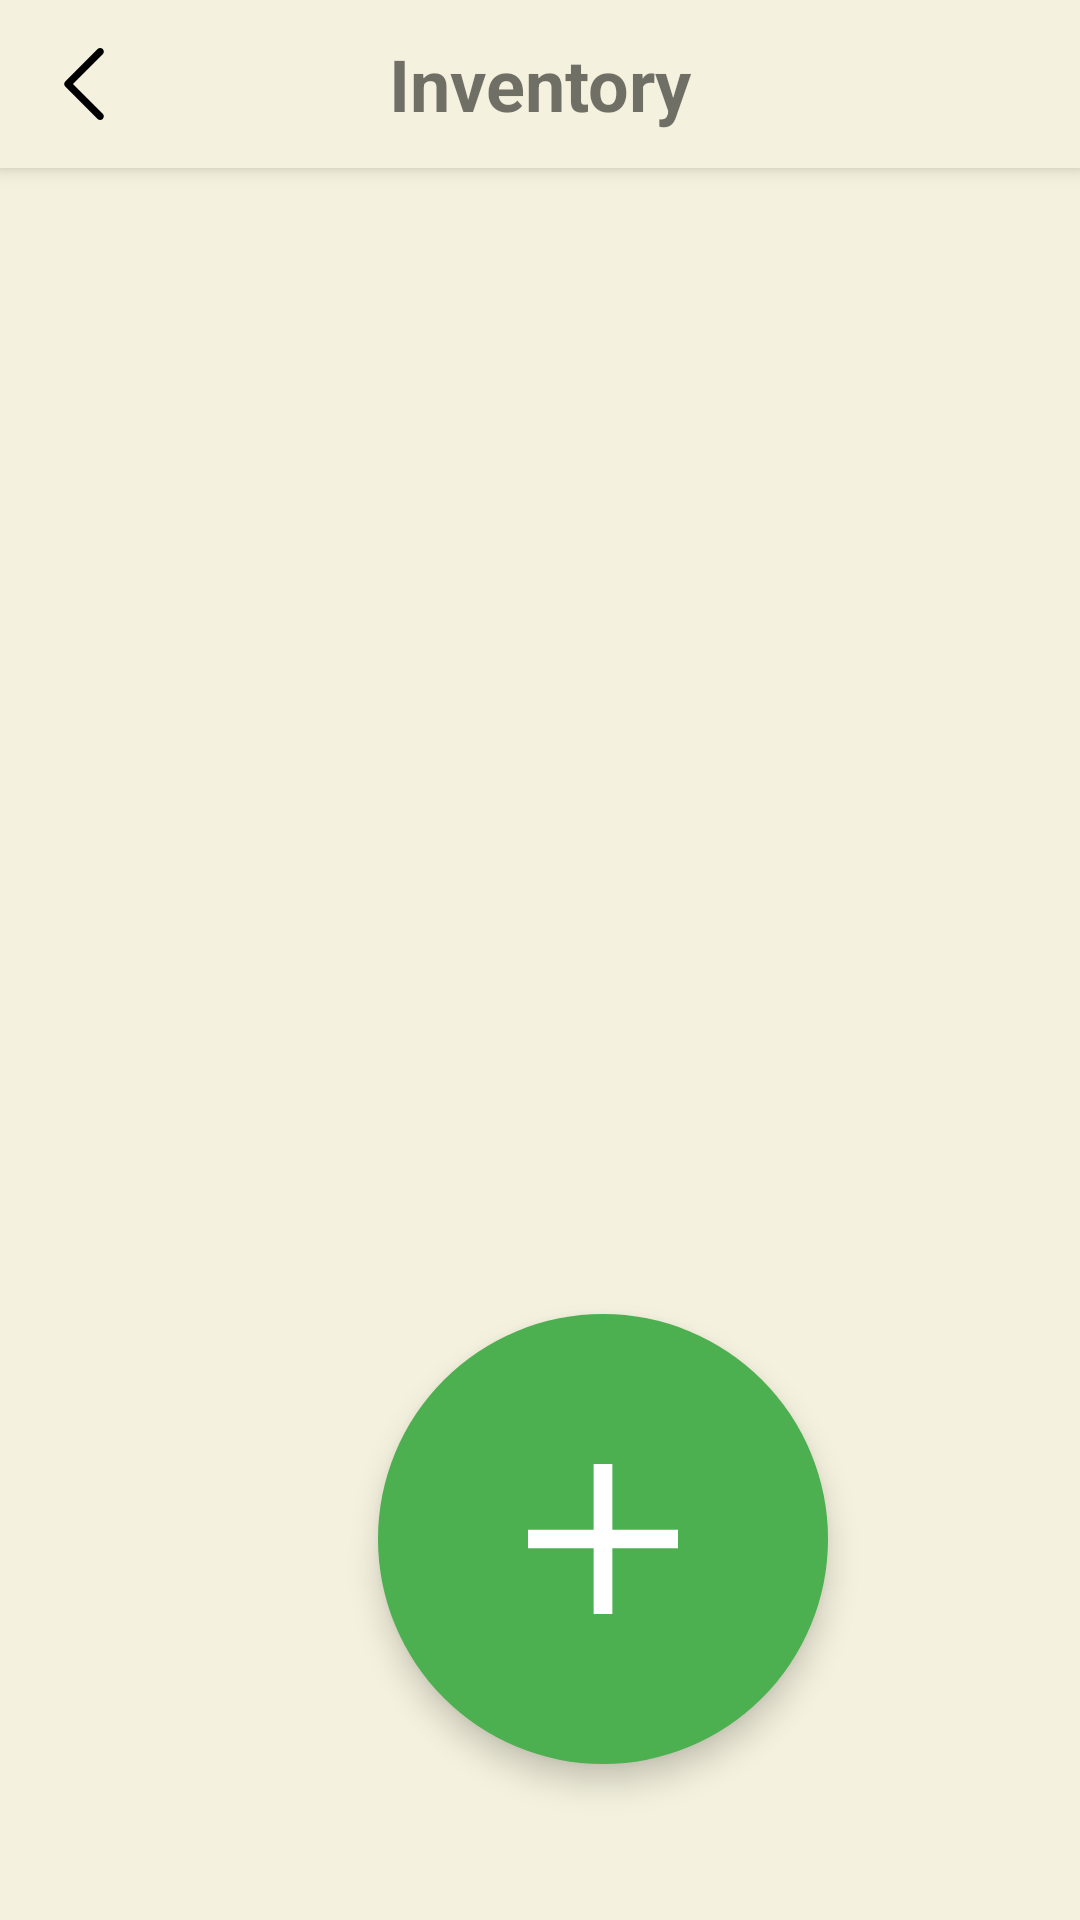

Named icons in this screenshot (1080w x 1920h) and their bounding boxes, bbox=(x1, y1, x2, y2):
back: bbox=(64, 48, 104, 120)
